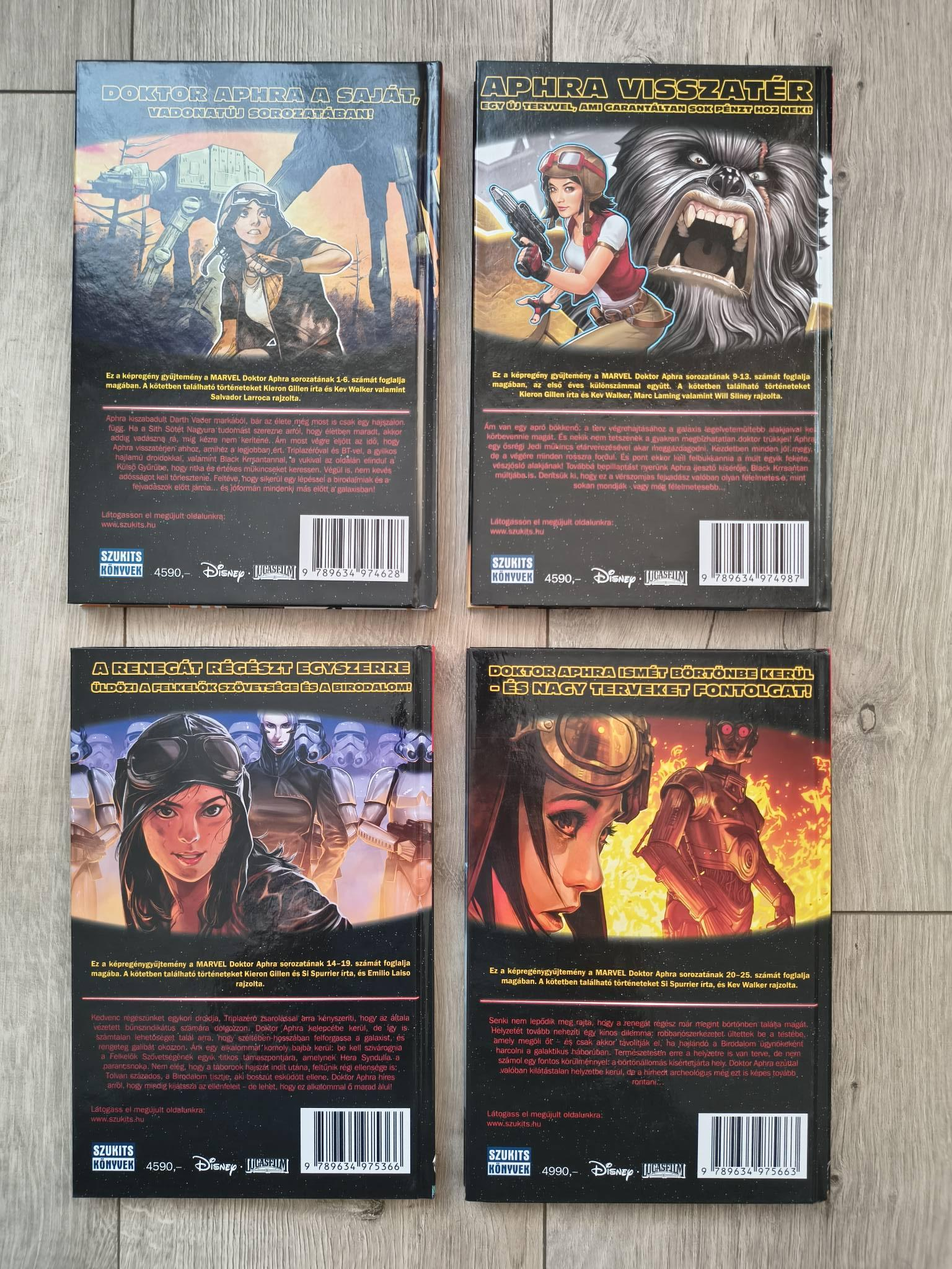comic: (464, 648, 832, 1204), (68, 60, 441, 607), (69, 647, 434, 1199), (469, 62, 835, 609)
